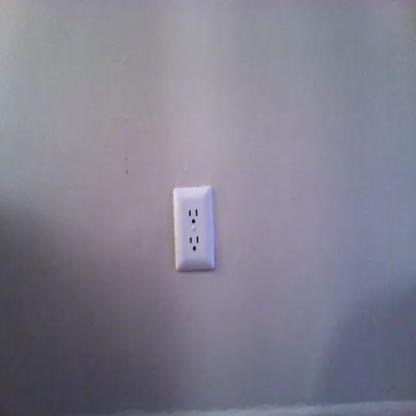OUTLET: (172, 187, 215, 269)
